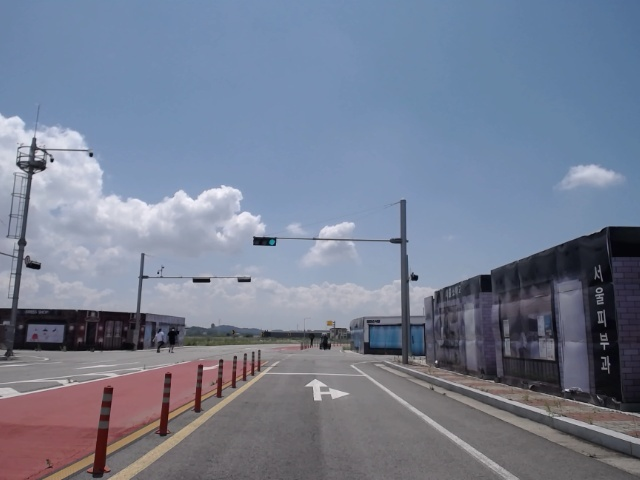green_3: (253, 239, 275, 246)
